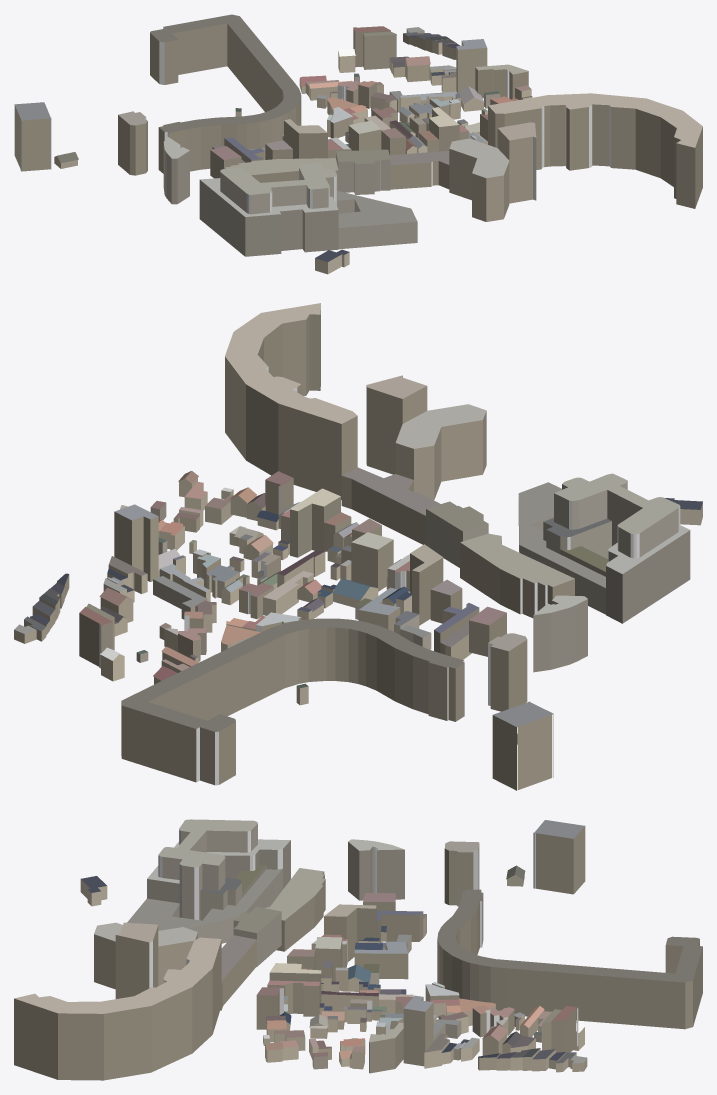
3 views of the same model, one above another, from view 1: azimuth 30°, elevation 25°; view 2: azimuth 150°, elevation 25°; view 3: azimuth 270°, elevation 25° (orthographic). The views are drawn at different scales.
Visible parts, largest first — view 1: tuile; view 2: tuile; view 3: tuile.
Boxes of the visible parts, left/top/right/bottom form: tuile: left=14, top=14, right=702, bottom=274; tuile: left=14, top=303, right=702, bottom=790; tuile: left=14, top=819, right=702, bottom=1080.
Size of the model in its own units: 282 by 60.98 by 336.
